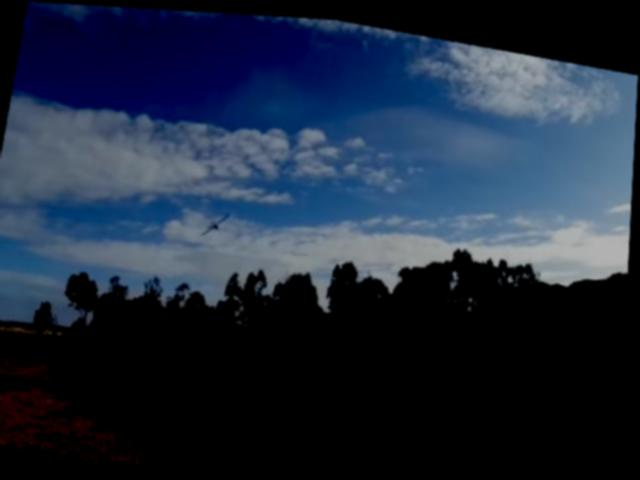uav: (195, 195, 240, 247)
